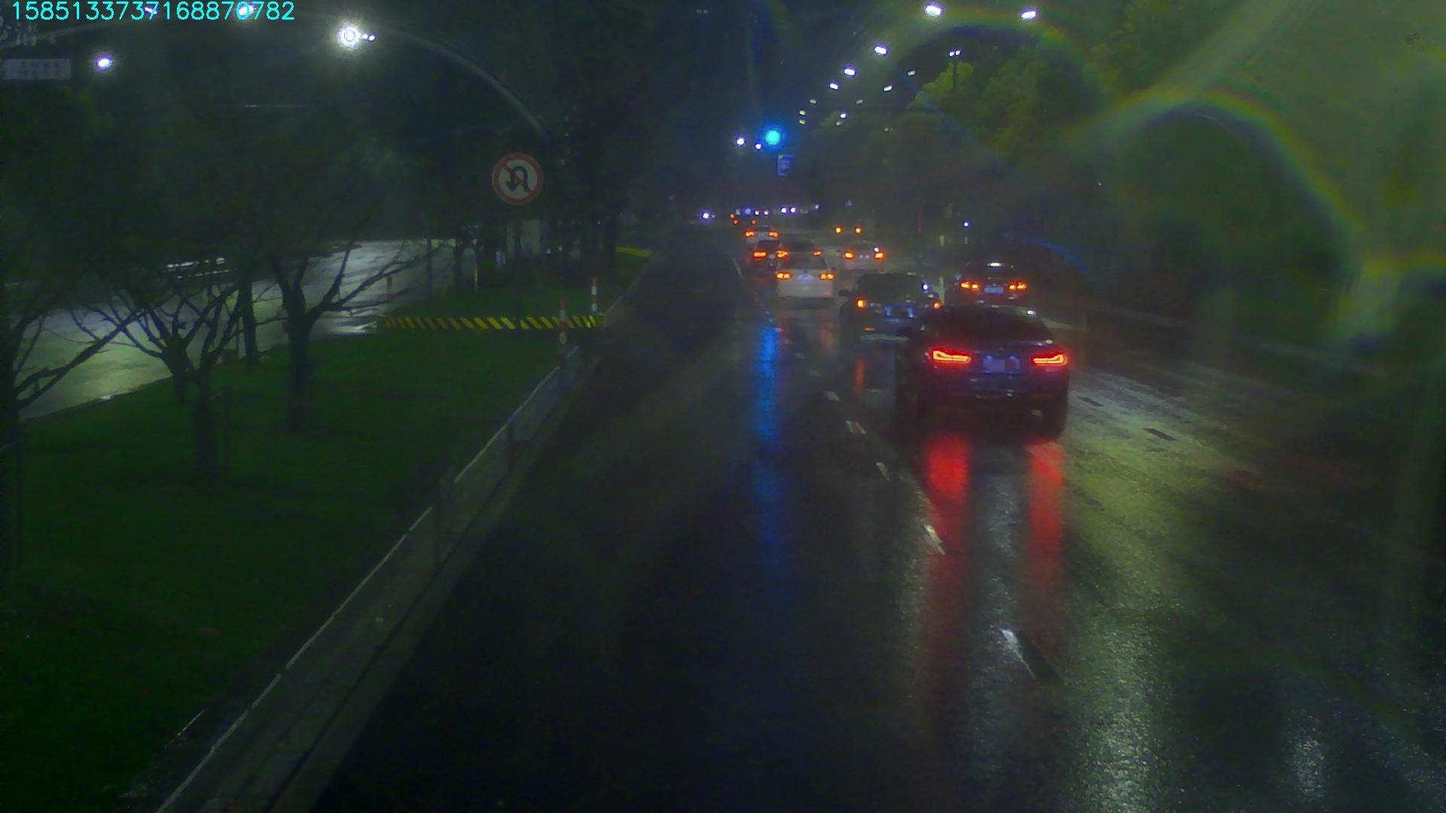green: (759, 123, 786, 149)
